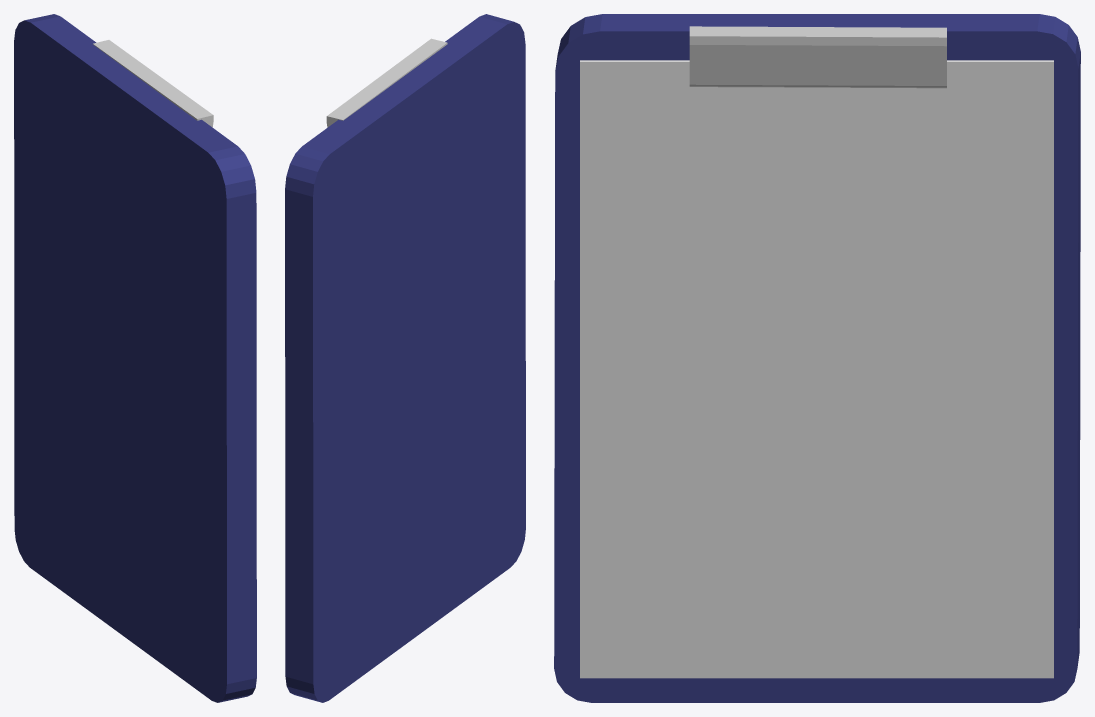
Rendered from clip_board.glb.
The picture shows the model from 3 angles, left to right: view 1: azimuth 30°, elevation 25°; view 2: azimuth 150°, elevation 25°; view 3: azimuth 270°, elevation 25°; orthographic projection. The views are drawn at different scales.
Visible parts, largest first — view 1: BoardClip, Clip; view 2: BoardClip, Clip; view 3: Paper, BoardClip, Clip.
Part boxes in pixels (x1,y1,x2,y2): BoardClip: (14,14,256,702); Clip: (93,40,213,127); BoardClip: (285,14,525,702); Clip: (326,38,447,127); Paper: (580,60,1053,678); BoardClip: (554,14,1080,702); Clip: (689,26,946,88).
Bounding box in the file's own units: 0.3708 × 4.77 × 3.38.
